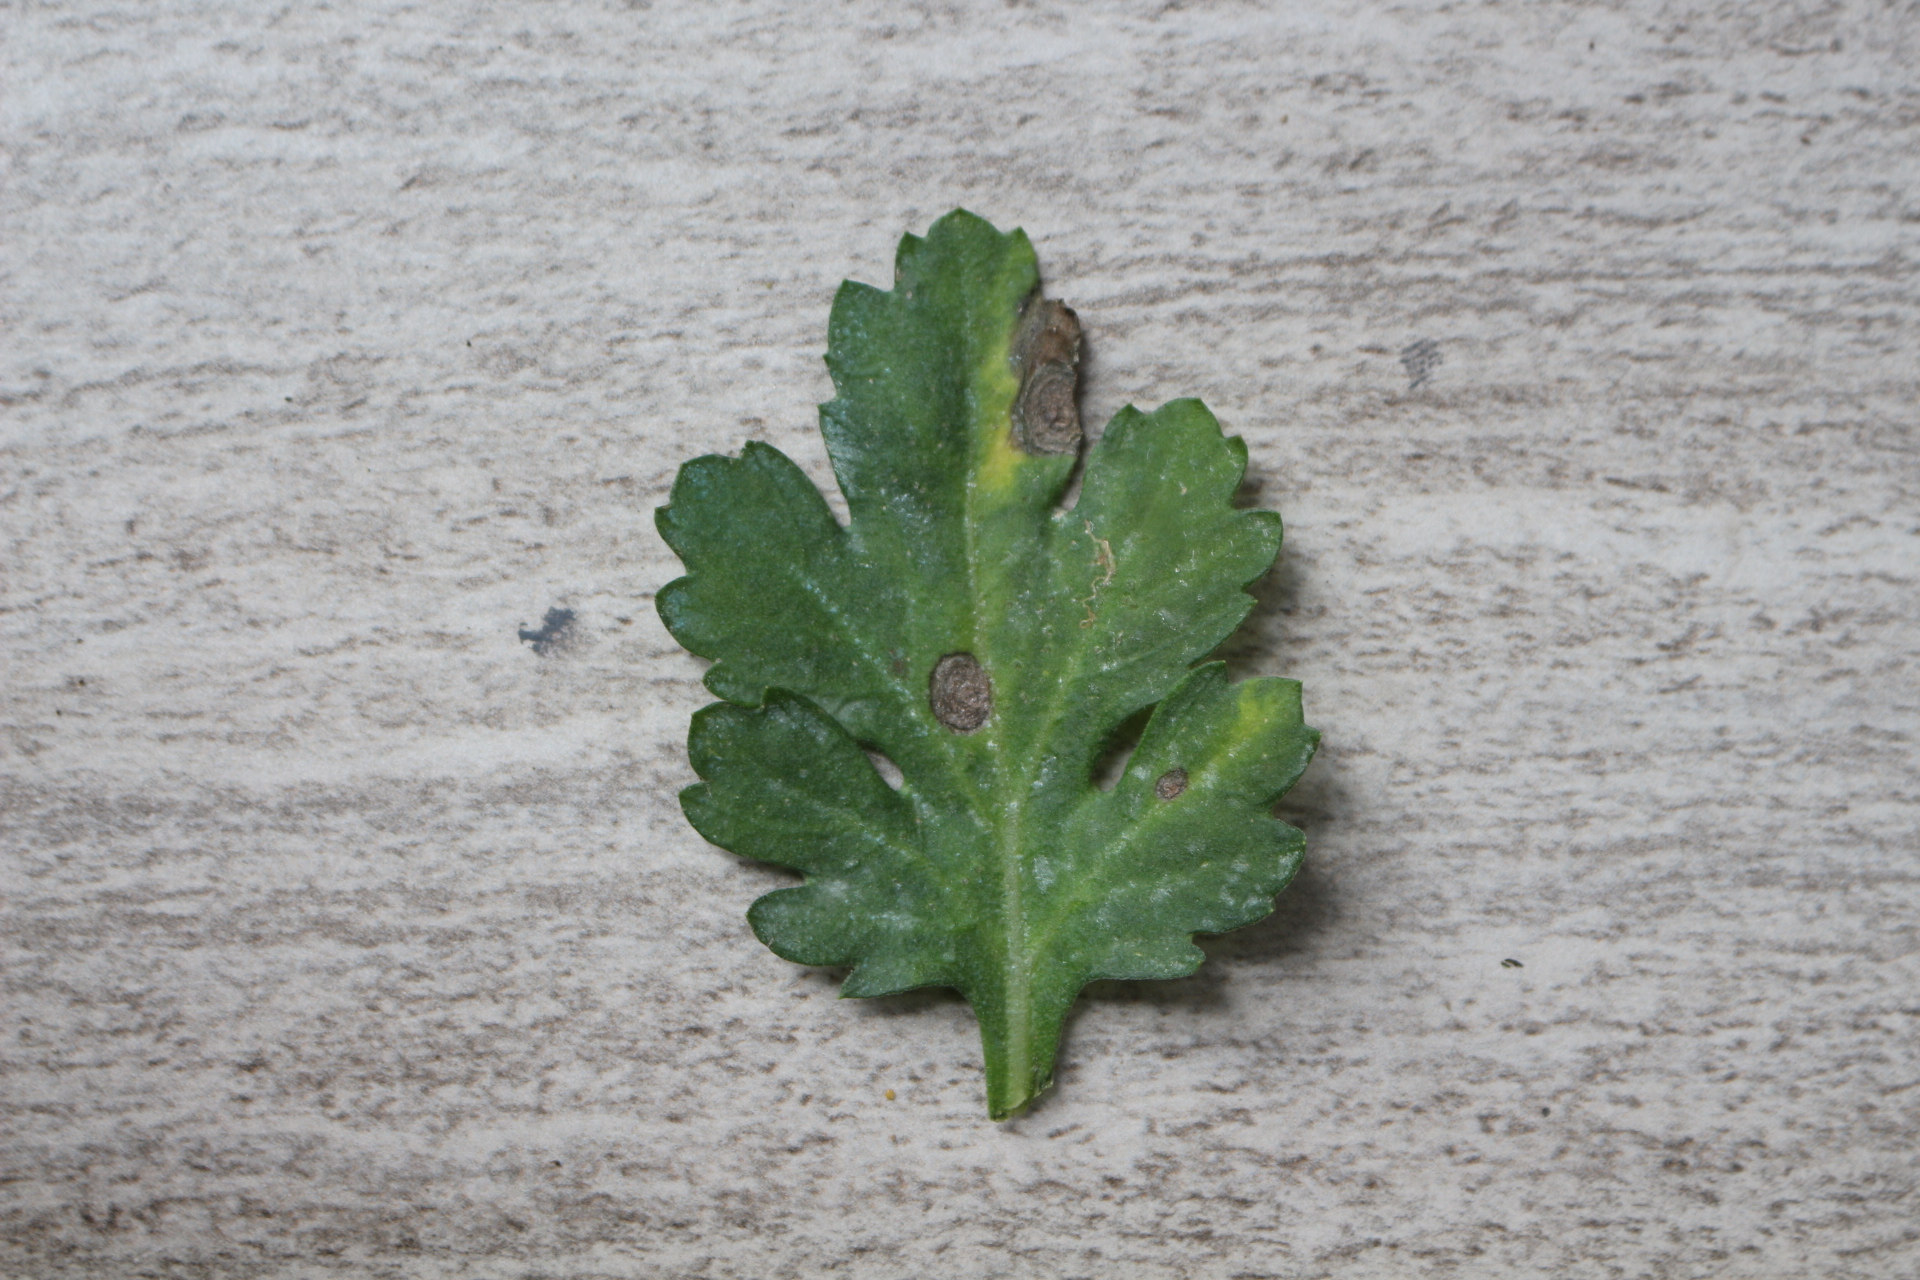namden: (920, 636, 1006, 736), (1154, 760, 1189, 809)
